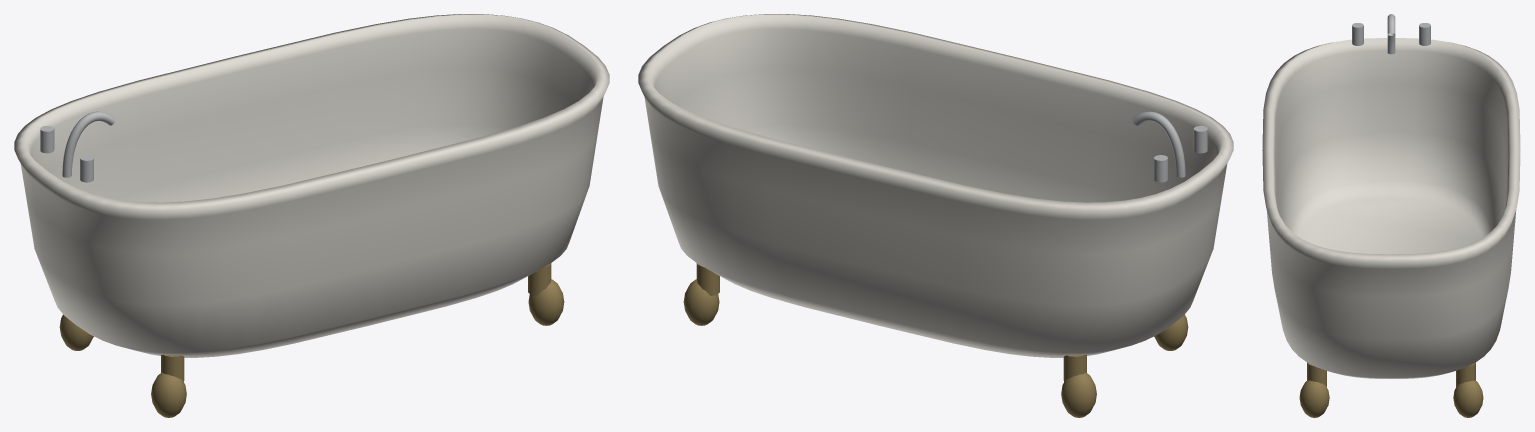
The model's file is bath_clawfoot.glb.
3 views of the same model, side by side, from view 1: azimuth 30°, elevation 25°; view 2: azimuth 150°, elevation 25°; view 3: azimuth 270°, elevation 25° (orthographic). The views are drawn at different scales.
Visible parts, largest first — view 1: bt.tub, bt.foot-1-1, bt.foot1-1, bt.spout, bt.foot-11, bt.leg1-1; view 2: bt.tub, bt.foot-11, bt.foot11, bt.spout, bt.foot-1-1, bt.leg11; view 3: bt.tub, bt.foot1-1, bt.foot11, bt.spout, bt.leg1-1, bt.leg11, bt.tap-1, bt.tap1.
Part boxes in pixels (box(x1,y1,x2,y2)): bt.tub: box(14, 14, 609, 357); bt.foot-1-1: box(151, 372, 186, 417); bt.foot1-1: box(528, 279, 564, 325); bt.spout: box(62, 111, 115, 177); bt.foot-11: box(59, 314, 93, 350); bt.leg1-1: box(528, 263, 551, 295); bt.tub: box(638, 14, 1233, 357); bt.foot-11: box(1061, 372, 1096, 417); bt.foot11: box(683, 279, 719, 325); bt.spout: box(1132, 111, 1185, 177); bt.foot-1-1: box(1154, 314, 1188, 350); bt.leg11: box(696, 263, 719, 295); bt.tub: box(1262, 38, 1520, 378); bt.foot1-1: box(1299, 380, 1329, 417); bt.foot11: box(1453, 380, 1483, 417); bt.spout: box(1387, 14, 1395, 54); bt.leg1-1: box(1307, 362, 1326, 386); bt.leg11: box(1456, 362, 1475, 386); bt.tap-1: box(1352, 23, 1363, 45); bt.tap1: box(1419, 23, 1430, 45).
Size of the model in its own units: 1.58 by 0.7702 by 0.7696.
